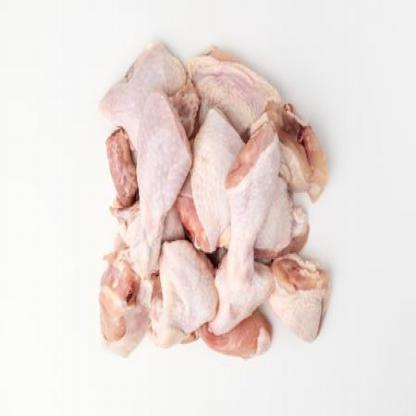chicken: (95, 30, 207, 160), (213, 119, 290, 293), (124, 93, 194, 279), (183, 35, 293, 140), (97, 241, 161, 354), (152, 248, 233, 336), (268, 252, 328, 340)
